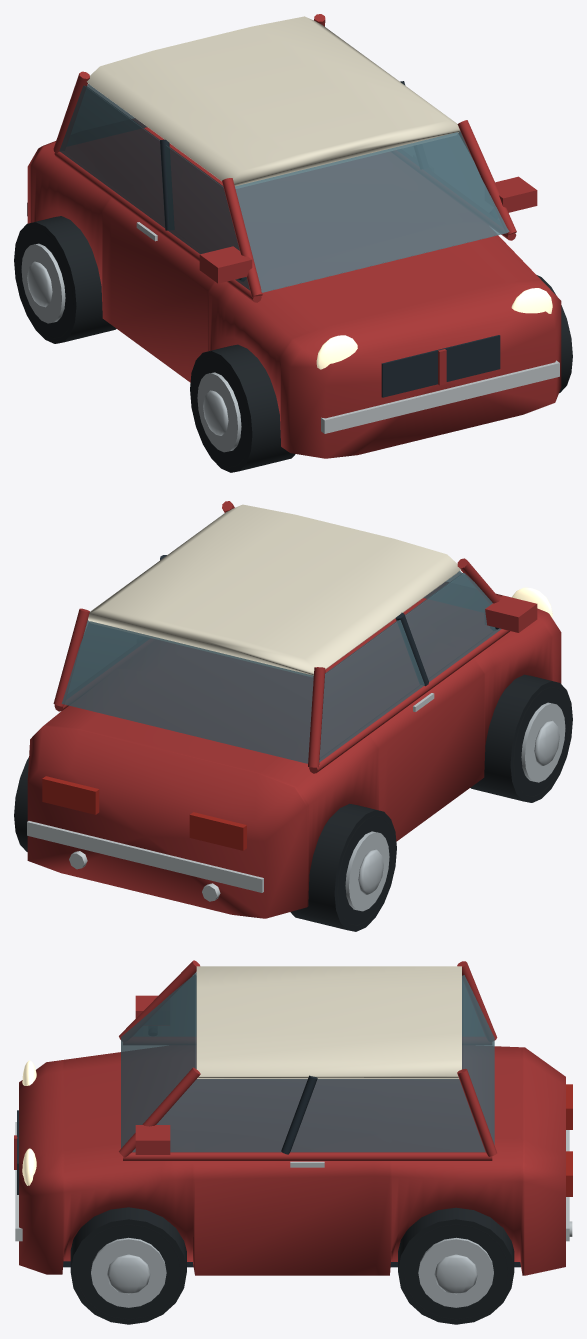
Rendered from borough.glb.
The picture shows the model from 3 angles, top to bottom: view 1: azimuth 30°, elevation 25°; view 2: azimuth 150°, elevation 25°; view 3: azimuth 270°, elevation 25°; orthographic projection. The views are drawn at different scales.
Visible parts, largest first — view 1: exterior-paint, windows, secondary-paint, tire-front-left, tire-rear-left, black-trim, chrome, rim-rear-left, rim-front-left, headlights, tire-front-right; view 2: exterior-paint, secondary-paint, windows, tire-rear-left, tire-front-left, chrome, taillights, rim-rear-left, rim-front-left, tire-rear-right, black-trim, headlights; view 3: exterior-paint, windows, secondary-paint, tire-front-right, tire-rear-right, rim-rear-right, rim-front-right, black-trim, chrome, headlights, taillights.
Boxes of the visible parts, x1,y1,x2,y2 form: exterior-paint: (27, 14, 561, 458); windows: (59, 84, 509, 292); secondary-paint: (87, 16, 459, 187); tire-front-left: (190, 344, 295, 472); tire-rear-left: (14, 216, 116, 343); black-trim: (160, 81, 500, 397); chrome: (27, 202, 559, 433); rim-rear-left: (21, 243, 65, 323); rim-front-left: (197, 372, 241, 452); headlights: (316, 288, 552, 369); tire-front-right: (537, 275, 572, 393); exterior-paint: (27, 501, 561, 918); secondary-paint: (88, 504, 460, 675); windows: (61, 571, 501, 763); tire-rear-left: (290, 803, 396, 931); tire-front-left: (470, 674, 572, 802); chrome: (27, 693, 434, 901); taillights: (42, 776, 246, 850); rim-rear-left: (345, 831, 389, 911); rim-front-left: (521, 702, 565, 782); tire-rear-right: (14, 757, 28, 851); black-trim: (160, 555, 499, 686); headlights: (512, 587, 552, 617); exterior-paint: (14, 960, 565, 1275); windows: (121, 972, 494, 1152); secondary-paint: (196, 966, 461, 1078); tire-front-right: (70, 1207, 186, 1324); tire-rear-right: (398, 1207, 514, 1324); rim-rear-right: (418, 1237, 493, 1307); rim-front-right: (91, 1237, 166, 1307); black-trim: (17, 1033, 520, 1267); chrome: (15, 1122, 572, 1241); headlights: (22, 1060, 36, 1185); taillights: (566, 1084, 572, 1196).
Bounding box in the file's own units: 1.71 × 1.24 × 2.59.
